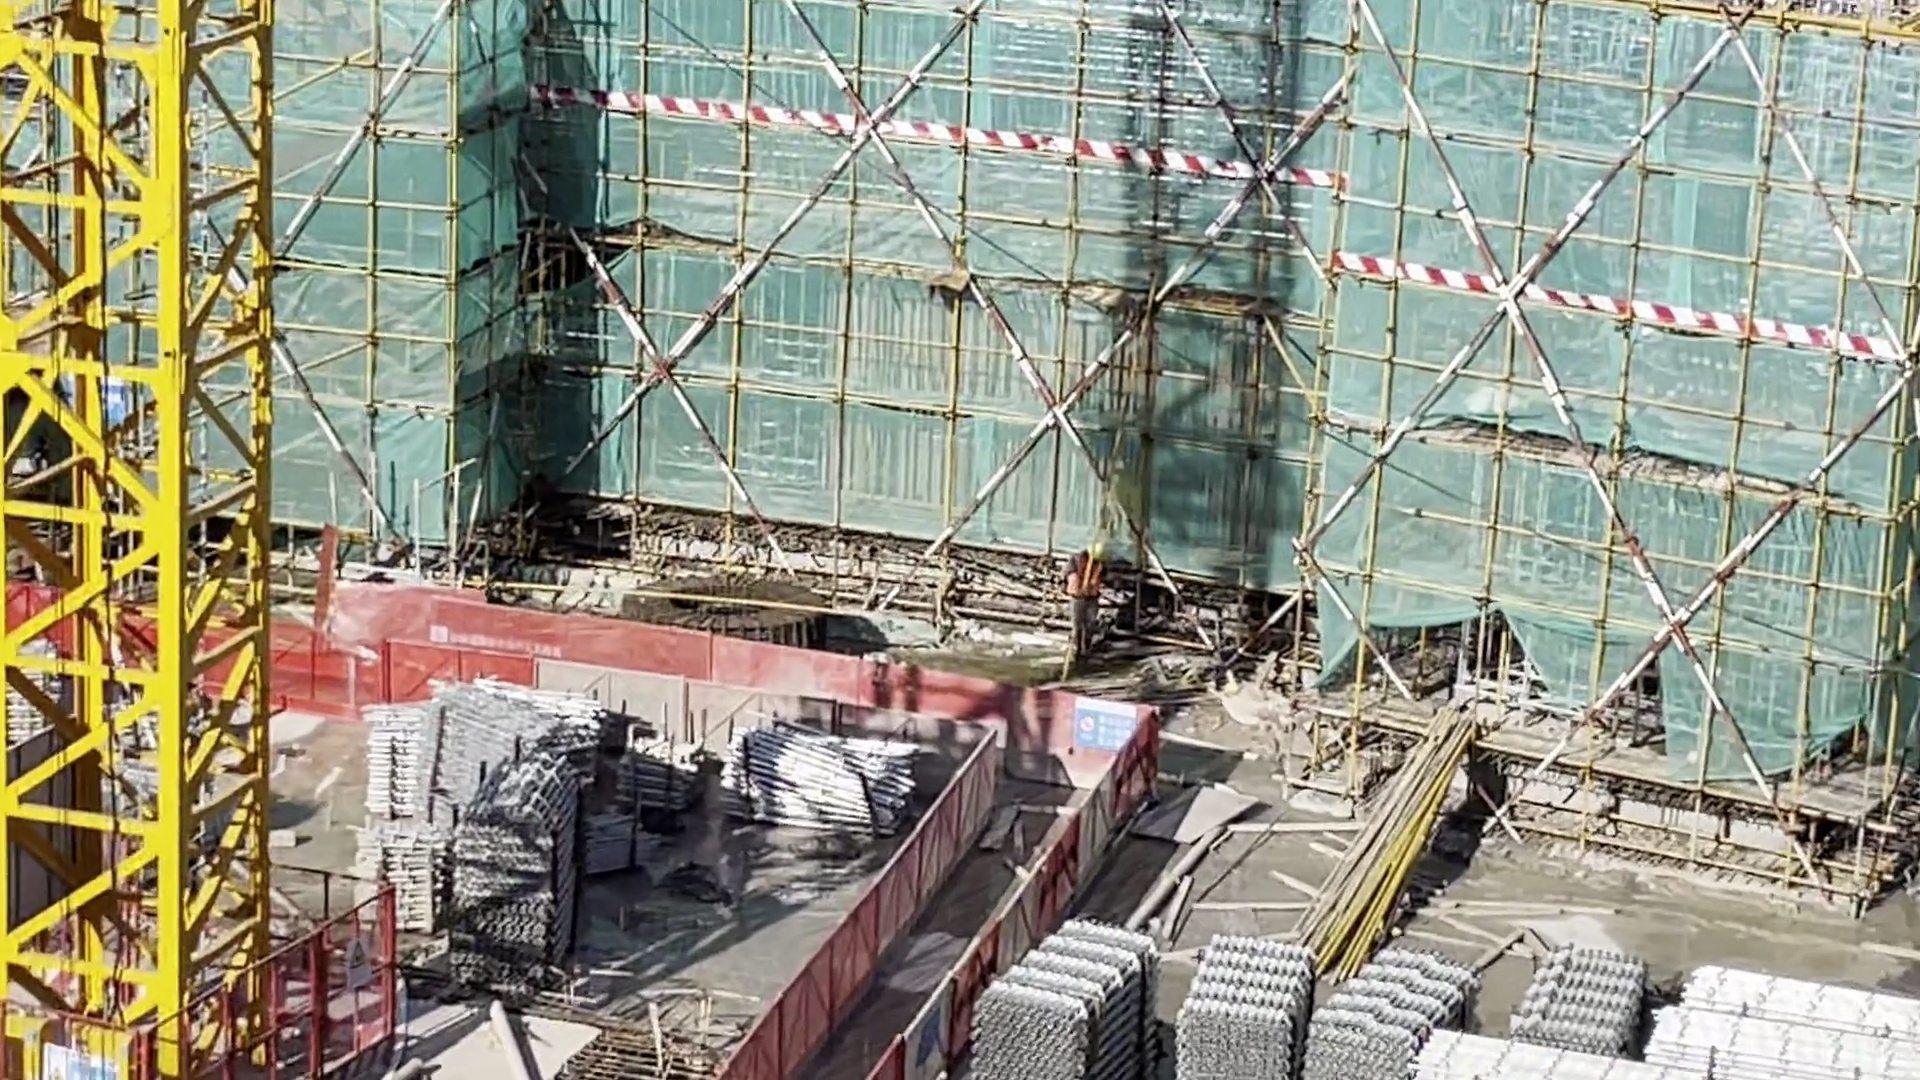fence: (278, 579, 1070, 787), (702, 747, 1120, 1080)
helmet: (1088, 542, 1107, 559)
person: (1070, 534, 1105, 661)
scaffold: (1177, 930, 1471, 1080), (1654, 970, 1918, 1080), (975, 926, 1147, 1080), (455, 779, 581, 989), (373, 696, 598, 812), (728, 735, 913, 826), (1511, 957, 1654, 1064), (361, 839, 450, 929), (624, 747, 697, 814)
slogan: (1073, 696, 1140, 757), (348, 941, 373, 987)
vest: (1073, 561, 1101, 603)
